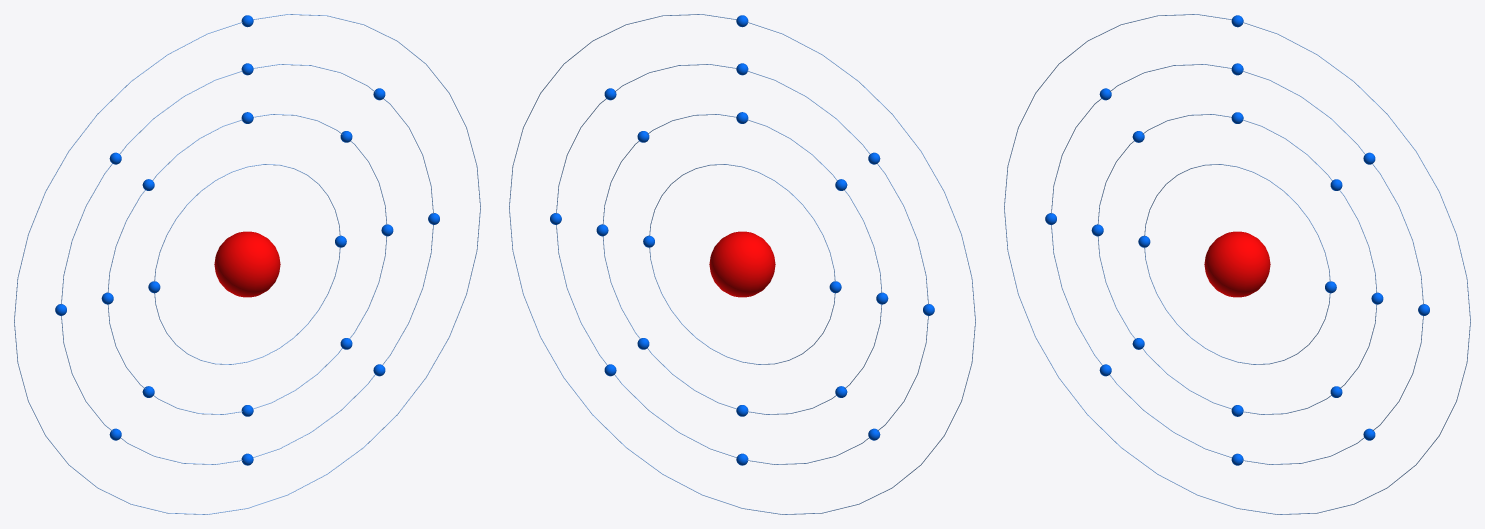
The picture shows the model from 3 angles, left to right: view 1: azimuth 30°, elevation 25°; view 2: azimuth 150°, elevation 25°; view 3: azimuth 330°, elevation 25°; orthographic projection.
Parts seen in each view (by area): view 1: 구, 도넛_2, 도넛_2_2, 도넛_1, 도넛; view 2: 구, 도넛_2, 도넛_2_2, 도넛_1, 도넛; view 3: 구, 도넛_2, 도넛_2_2, 도넛_1, 도넛.
Boxes of the visible parts, x1=… form: 구: x1=214, y1=231, x2=280, y2=297; 도넛_2: x1=14, y1=14, x2=480, y2=514; 도넛_2_2: x1=61, y1=64, x2=433, y2=464; 도넛_1: x1=107, y1=114, x2=387, y2=414; 도넛: x1=154, y1=164, x2=340, y2=364; 구: x1=709, y1=231, x2=775, y2=297; 도넛_2: x1=509, y1=14, x2=975, y2=514; 도넛_2_2: x1=556, y1=64, x2=928, y2=464; 도넛_1: x1=602, y1=114, x2=882, y2=414; 도넛: x1=649, y1=164, x2=835, y2=364; 구: x1=1204, y1=231, x2=1270, y2=297; 도넛_2: x1=1004, y1=14, x2=1470, y2=514; 도넛_2_2: x1=1051, y1=64, x2=1423, y2=464; 도넛_1: x1=1097, y1=114, x2=1377, y2=414; 도넛: x1=1144, y1=164, x2=1330, y2=364.
Size of the model in its own units: 401 by 404 by 49.18.
